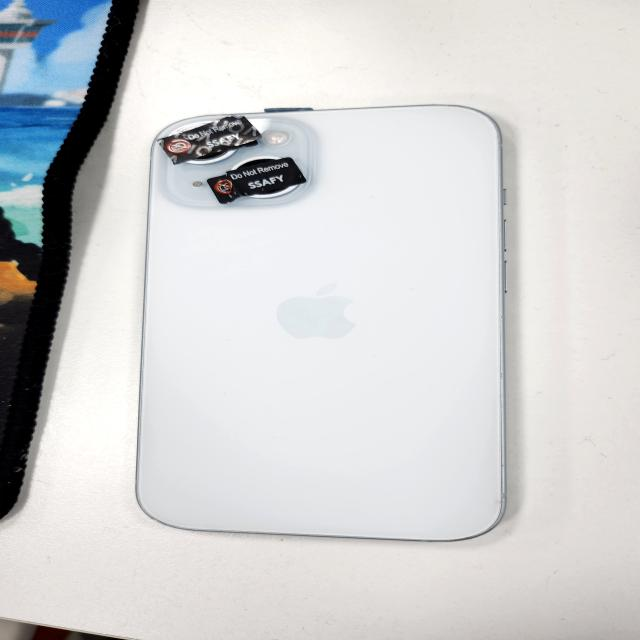phone: (133, 100, 512, 544)
removed_sticker: (160, 114, 263, 166)
sticker: (210, 156, 308, 206)
